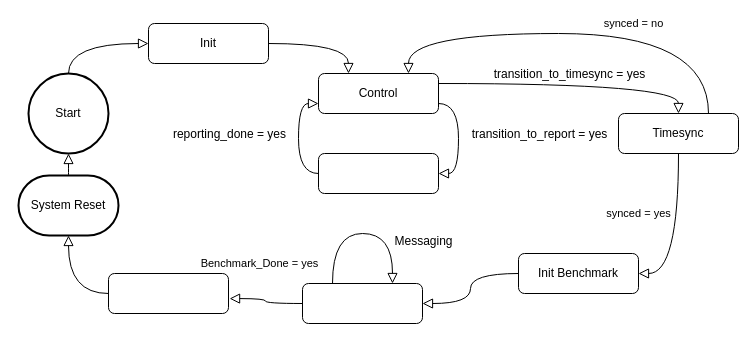
Image size: 756x341. Some labels were removed from this diagram. Each missing label, with the box of its shape:
Benchmark: (302, 282, 422, 324)
Report: (318, 152, 438, 194)
Save Flash: (108, 272, 228, 314)
